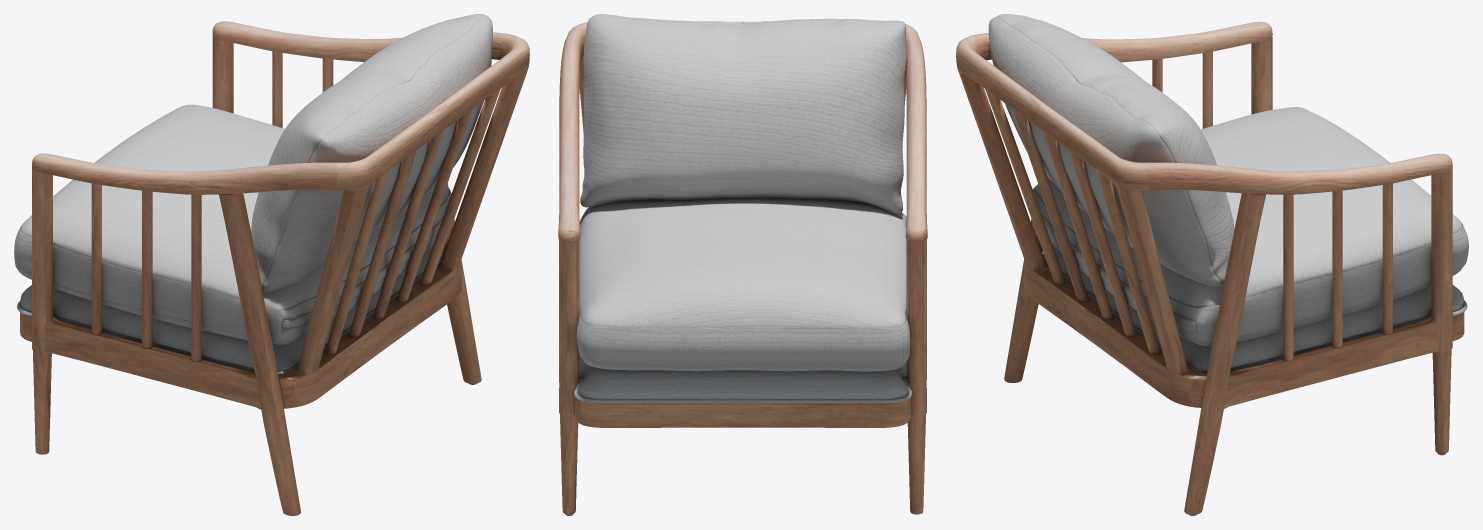
The model's file is chairs-portfolio_08-v1.glb.
The picture shows the model from 3 angles, left to right: view 1: azimuth 30°, elevation 25°; view 2: azimuth 150°, elevation 25°; view 3: azimuth 270°, elevation 25°; orthographic projection. The views are drawn at different scales.
Parts seen in each view (by area): view 1: 08; view 2: 08; view 3: 08.
Boxes of the visible parts, box(x1,y1,x2,y2) form: 08: box(14, 14, 529, 515); 08: box(558, 14, 927, 515); 08: box(956, 14, 1468, 515).
Bounding box in the file's own units: 0.917 × 0.7842 × 0.9481.
1 material, 1 textured.
